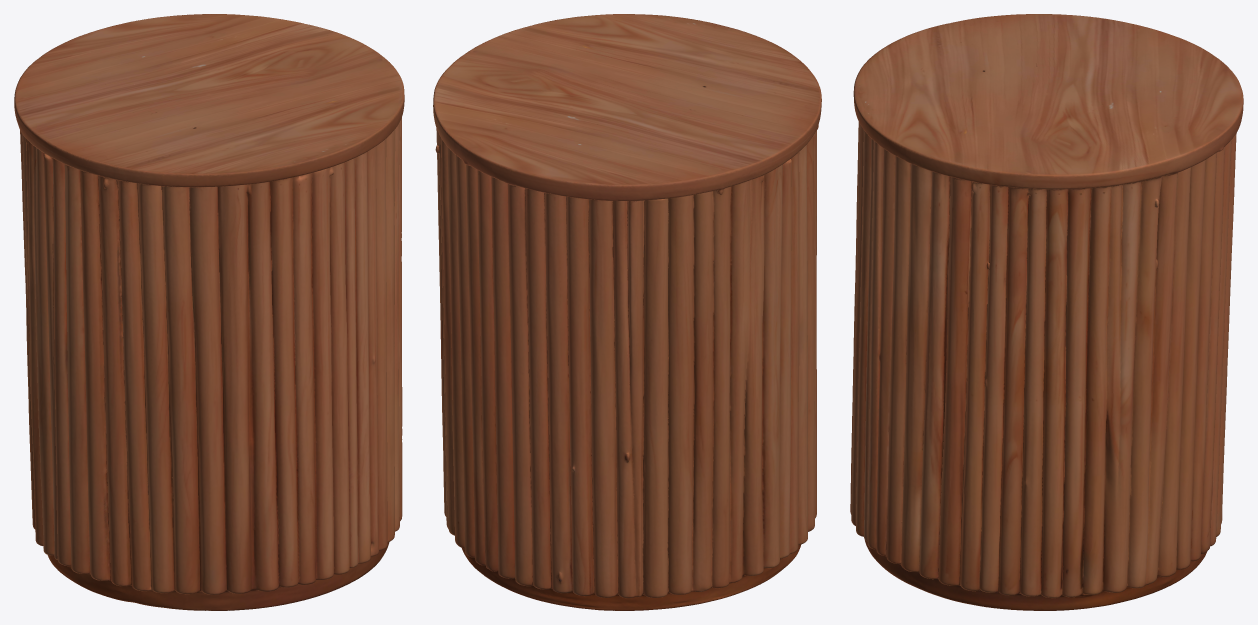
3 views of the same model, side by side, from view 1: azimuth 30°, elevation 25°; view 2: azimuth 150°, elevation 25°; view 3: azimuth 270°, elevation 25° (orthographic).
Visible parts, largest first — view 1: tripo_node_08da60f9-6cbb-4b90-946d-6a5f37a2ca52; view 2: tripo_node_08da60f9-6cbb-4b90-946d-6a5f37a2ca52; view 3: tripo_node_08da60f9-6cbb-4b90-946d-6a5f37a2ca52.
Boxes of the visible parts, bbox=[...] form: tripo_node_08da60f9-6cbb-4b90-946d-6a5f37a2ca52: bbox=[14, 14, 404, 610]; tripo_node_08da60f9-6cbb-4b90-946d-6a5f37a2ca52: bbox=[433, 14, 821, 610]; tripo_node_08da60f9-6cbb-4b90-946d-6a5f37a2ca52: bbox=[850, 14, 1243, 610].
Size of the model in its own units: 0.7838 by 1 by 0.7898.
Materials: 1 (1 with a texture image).
